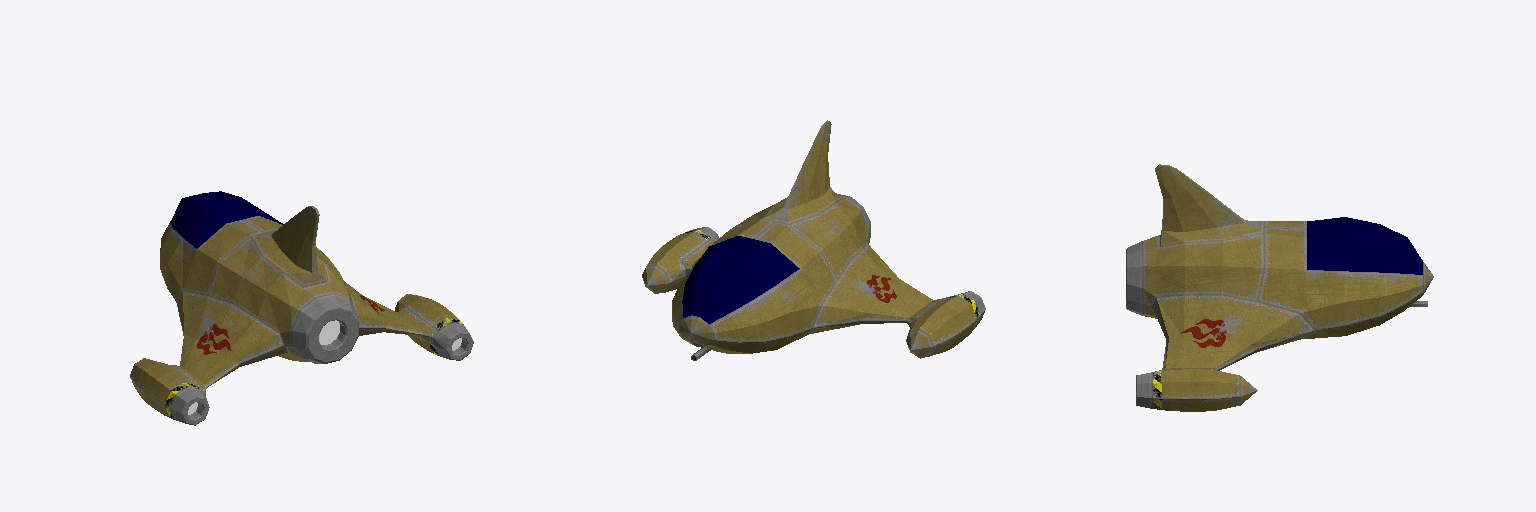
3 views of the same model, side by side, from view 1: azimuth 30°, elevation 25°; view 2: azimuth 150°, elevation 25°; view 3: azimuth 270°, elevation 25° (orthographic).
Visible parts, largest first — view 1: plane; view 2: plane; view 3: plane.
Part boxes in pixels (bbox=[...]): plane: bbox=[130, 191, 473, 425]; plane: bbox=[642, 120, 985, 360]; plane: bbox=[1126, 164, 1433, 411].
Bounding box in the file's own units: 69.93 × 40 × 61.48.
Materials: 1 (1 with a texture image).